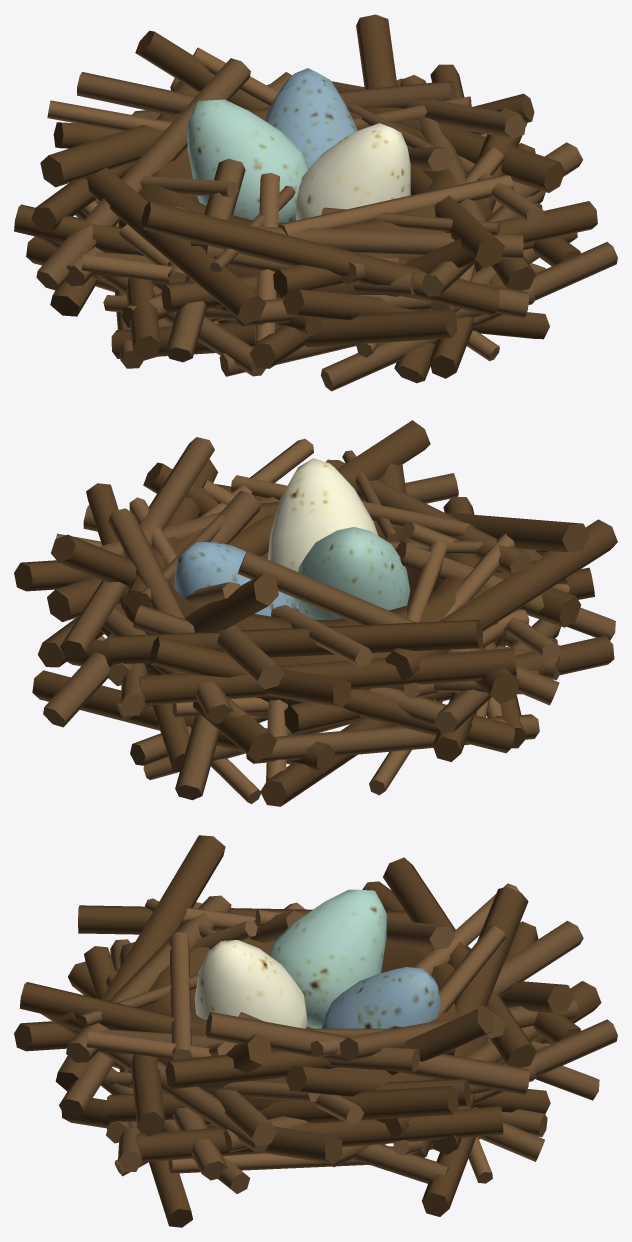
The model's file is SM_Props_BirdsNest_01.obj.
3 renders of one model, top to bottom at view 1: azimuth 30°, elevation 25°; view 2: azimuth 150°, elevation 25°; view 3: azimuth 270°, elevation 25°, orthographic. The views are drawn at different scales.
Visible parts, largest first — view 1: SM_Props_BirdsNest_01_Mat_SwatchOverlay_Farm_01_WoodB_Inst, SM_Props_BirdsNest_01_Mat_SwatchOverlay_Farm_Main_01_Inst; view 2: SM_Props_BirdsNest_01_Mat_SwatchOverlay_Farm_01_WoodB_Inst, SM_Props_BirdsNest_01_Mat_SwatchOverlay_Farm_Main_01_Inst; view 3: SM_Props_BirdsNest_01_Mat_SwatchOverlay_Farm_01_WoodB_Inst, SM_Props_BirdsNest_01_Mat_SwatchOverlay_Farm_Main_01_Inst.
Part boxes in pixels (box(x1,y1,x2,y2)): SM_Props_BirdsNest_01_Mat_SwatchOverlay_Farm_01_WoodB_Inst: box(14, 14, 617, 391); SM_Props_BirdsNest_01_Mat_SwatchOverlay_Farm_Main_01_Inst: box(187, 68, 410, 223); SM_Props_BirdsNest_01_Mat_SwatchOverlay_Farm_01_WoodB_Inst: box(14, 420, 617, 806); SM_Props_BirdsNest_01_Mat_SwatchOverlay_Farm_Main_01_Inst: box(174, 458, 410, 619); SM_Props_BirdsNest_01_Mat_SwatchOverlay_Farm_01_WoodB_Inst: box(14, 835, 617, 1227); SM_Props_BirdsNest_01_Mat_SwatchOverlay_Farm_Main_01_Inst: box(194, 889, 440, 1028).
Bounding box in the file's own units: 0.6906 × 0.3194 × 0.7255.
2 materials, 2 textured.
